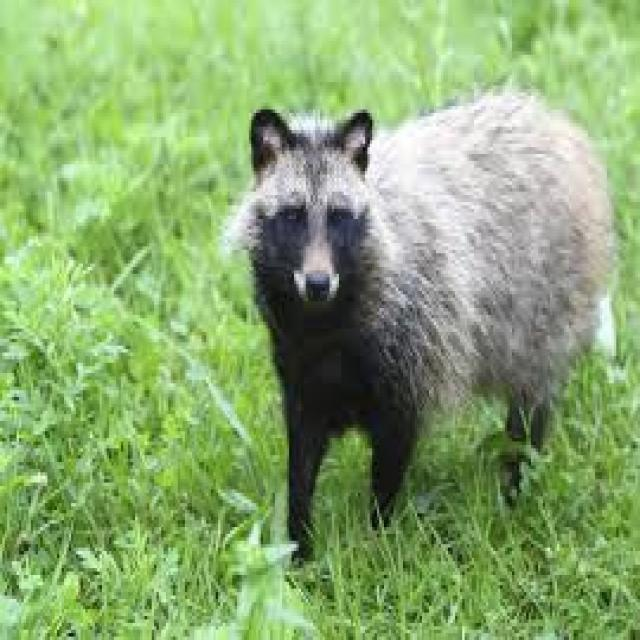racoon: (245, 85, 612, 546)
